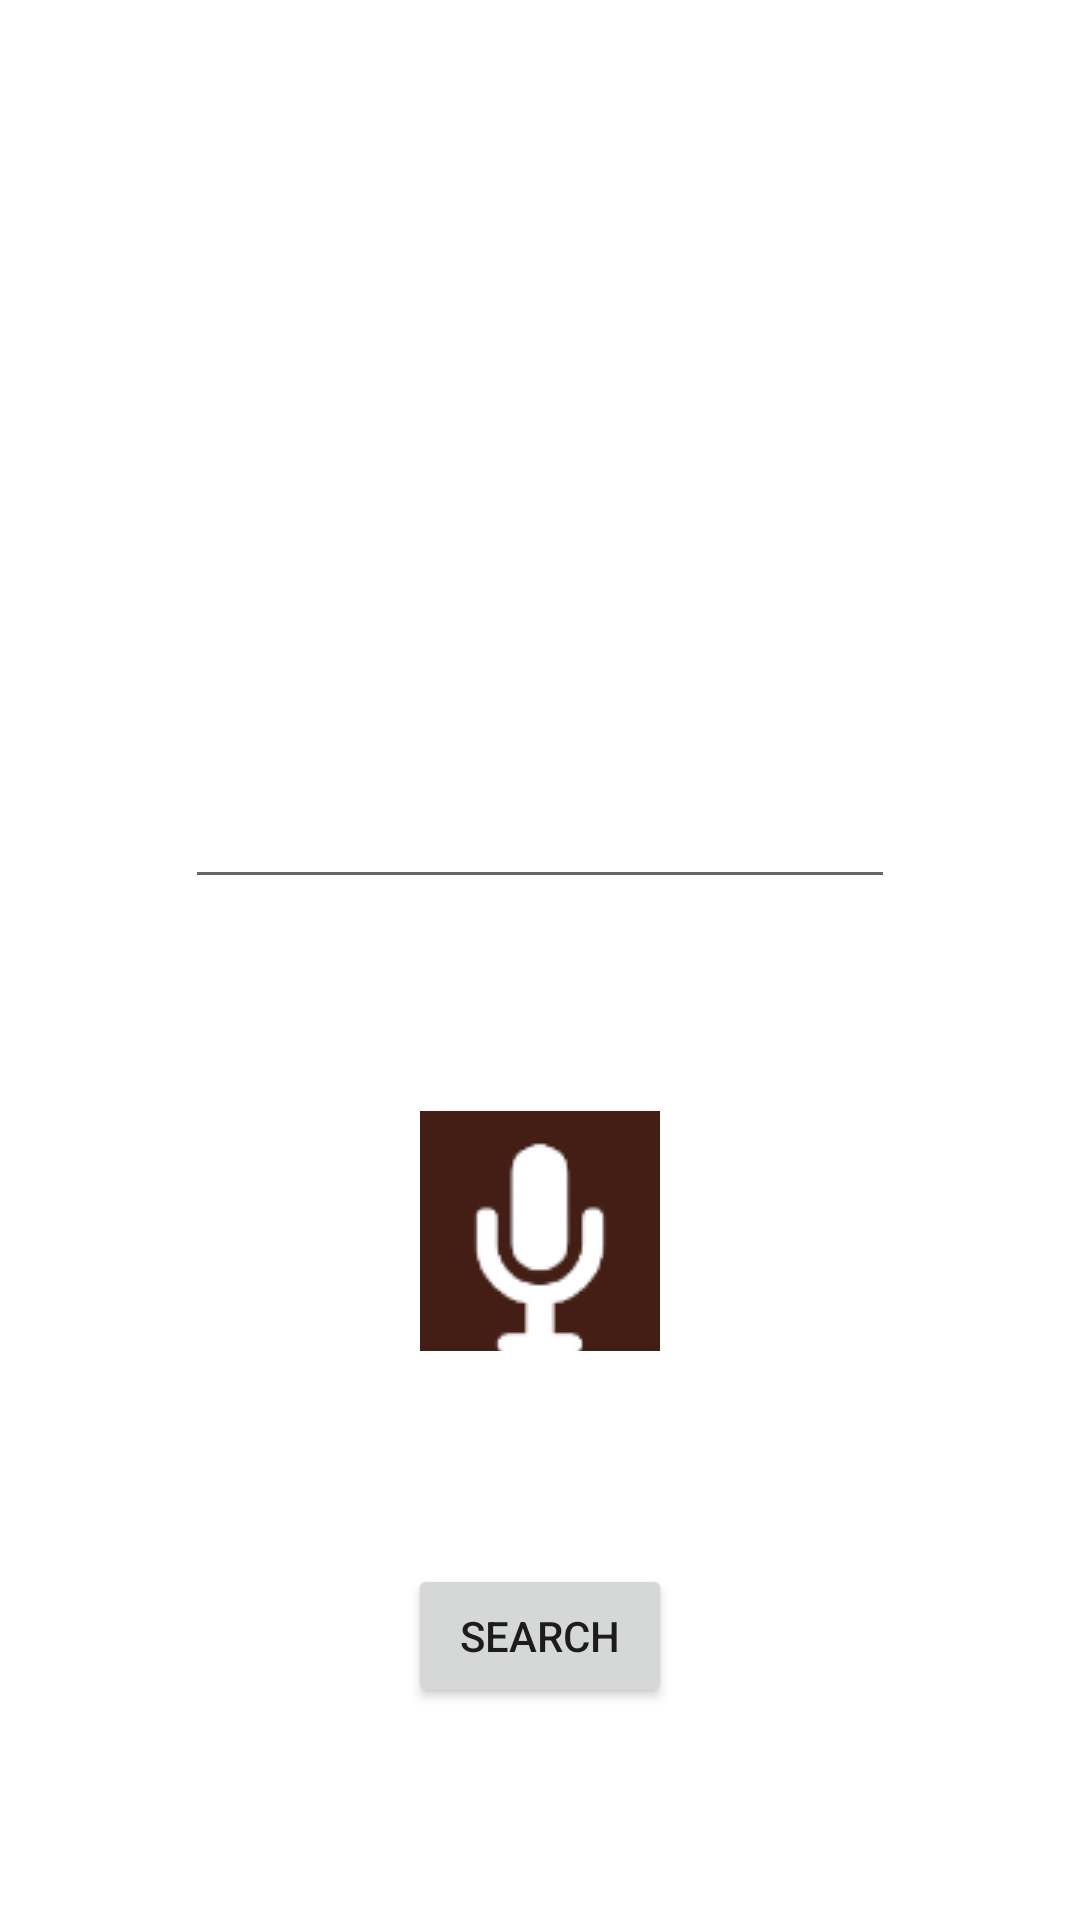

Where to tap for icons on this 1080x1920 app screen, as point (x, y):
record: point (540, 1231)
